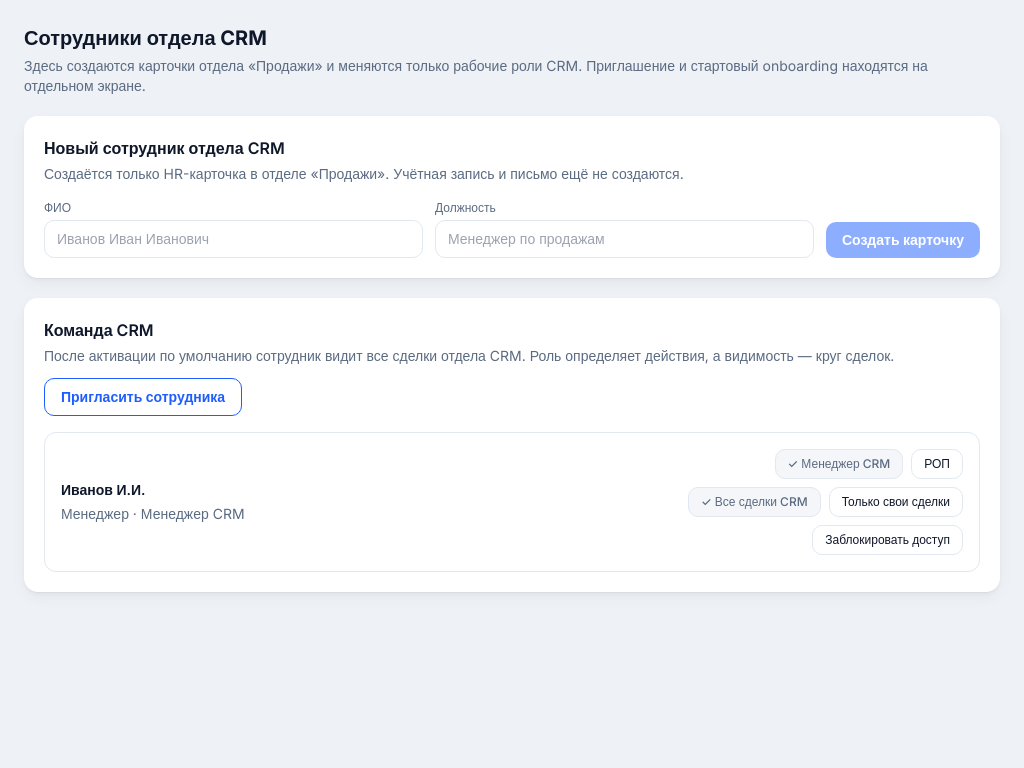
CrmStaffAccess › confirms suspension separately and preserves the expected status
Click the button "Заблокировать доступ". click: (888, 540)
box: [812,525,963,555]
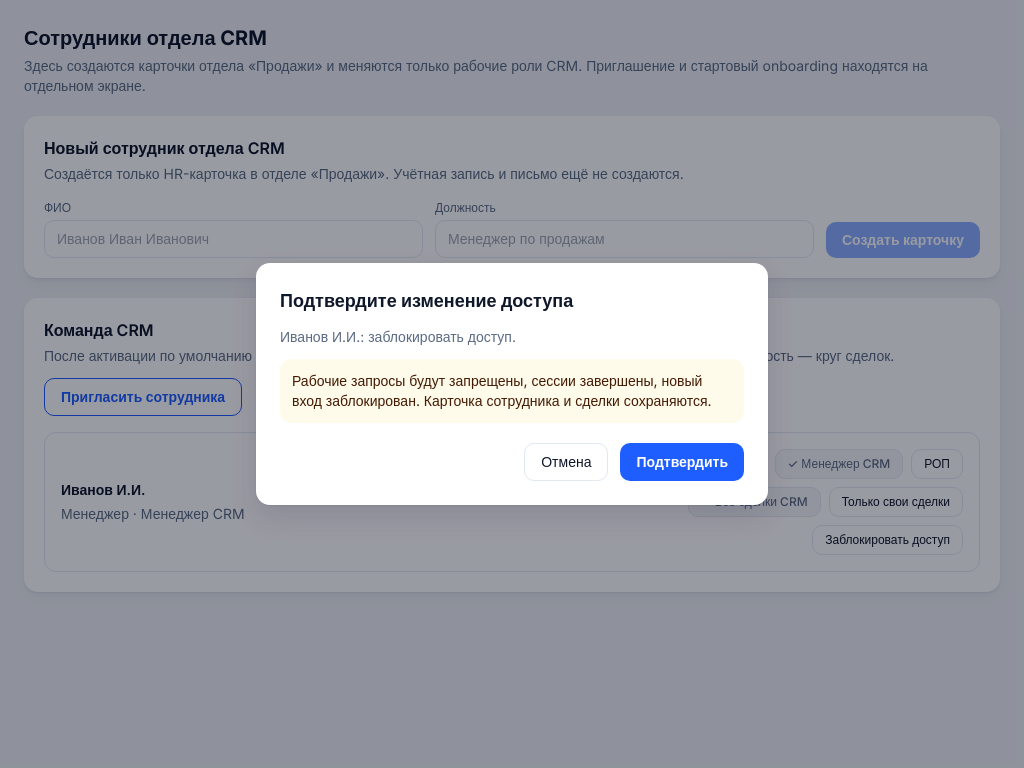
Check: the dialog shows "Карточка сотрудника и сделки сохраняются", box [292,372,712,409]
Click the button "Подтвердить". click: (682, 462)
box: [620,443,744,481]
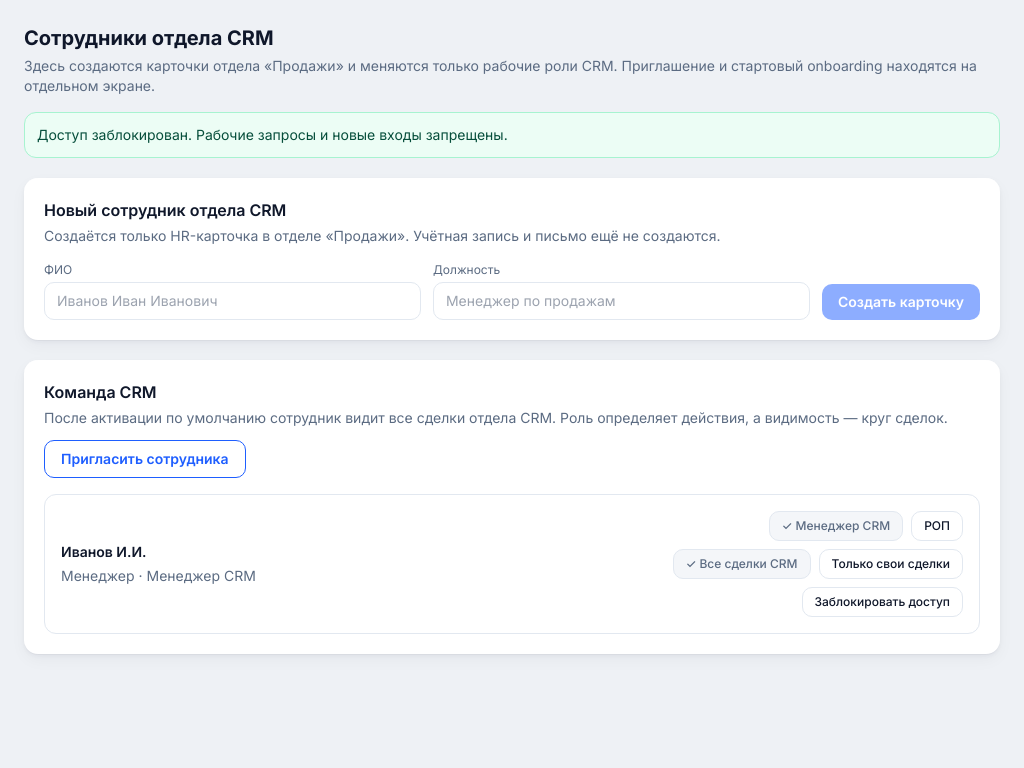
Check: the message "Доступ заблокирован. Рабочие запросы и новые входы запрещены." is shown, box [24,112,1000,158]
